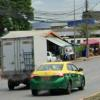taxis: (30, 60, 85, 96)
